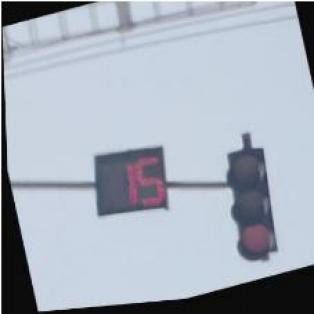Semaforo Rojo: (216, 147, 285, 268)
